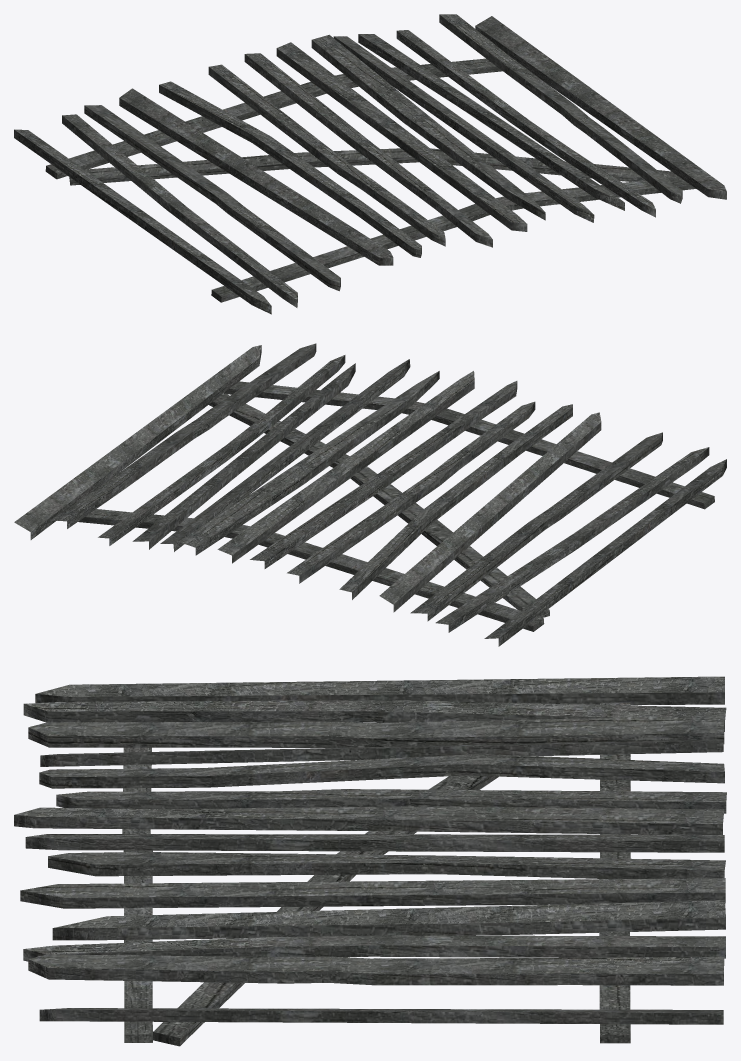
The model's file is caen_fence_gate_1.glb.
3 views of the same model, one above another, from view 1: azimuth 30°, elevation 25°; view 2: azimuth 150°, elevation 25°; view 3: azimuth 270°, elevation 25° (orthographic). The views are drawn at different scales.
Bounding box in the file's own units: 59.19 × 5.36 × 52.9.
Materials: 1 (1 with a texture image).
